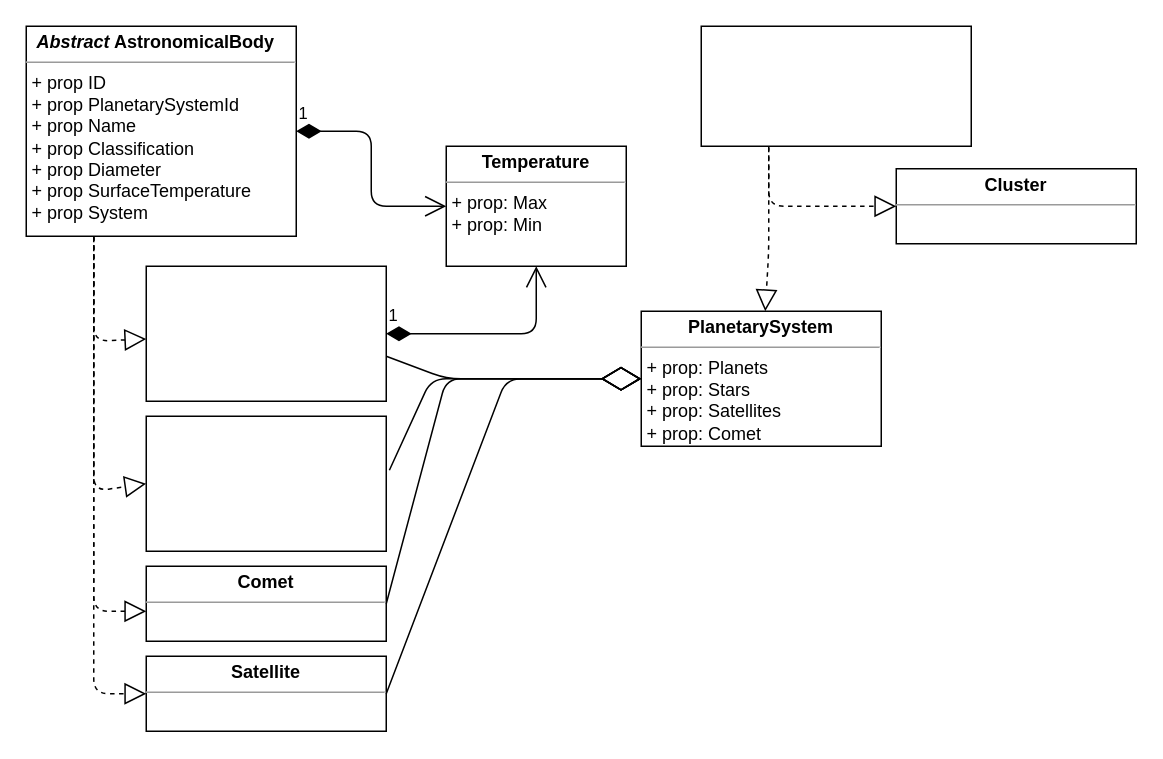
Image size: 1163x759. Some labels were removed from this diagram. Each missing label, with the centre of its shape:
"Abstract AstronomicalObject + prop ID + prop Age + prop Name" goes at (x=835, y=85).
"Planet + prop: OrbitDistance + prop: OrbitPeriod + prop: KnownMoons" goes at (x=265, y=483).
"Star + prop: AmountOrbitPlanet + prop: CoreTemperature + prop: Age" goes at (x=265, y=333).
